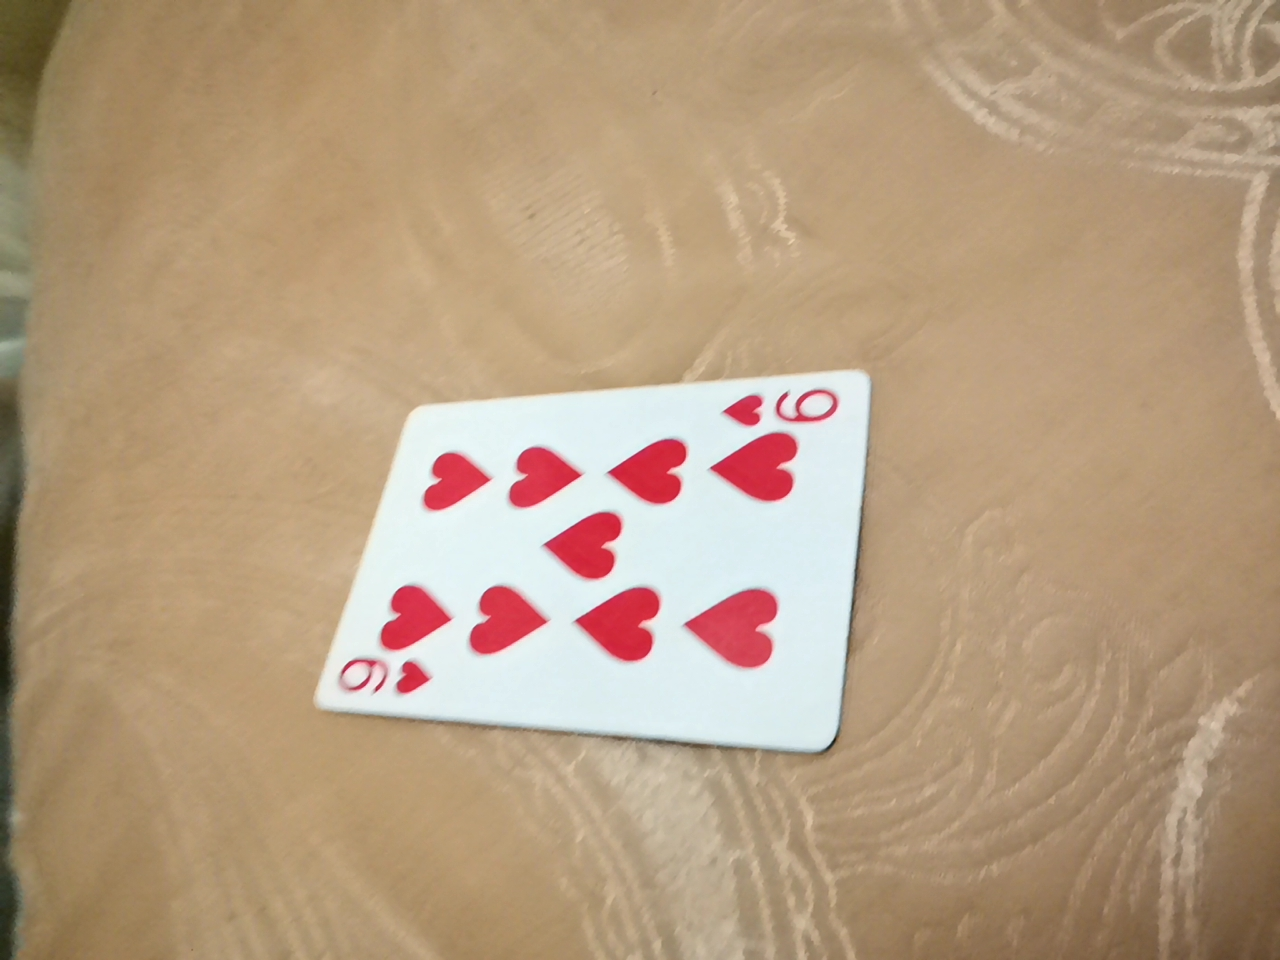hx 9: (372, 305, 954, 701)
